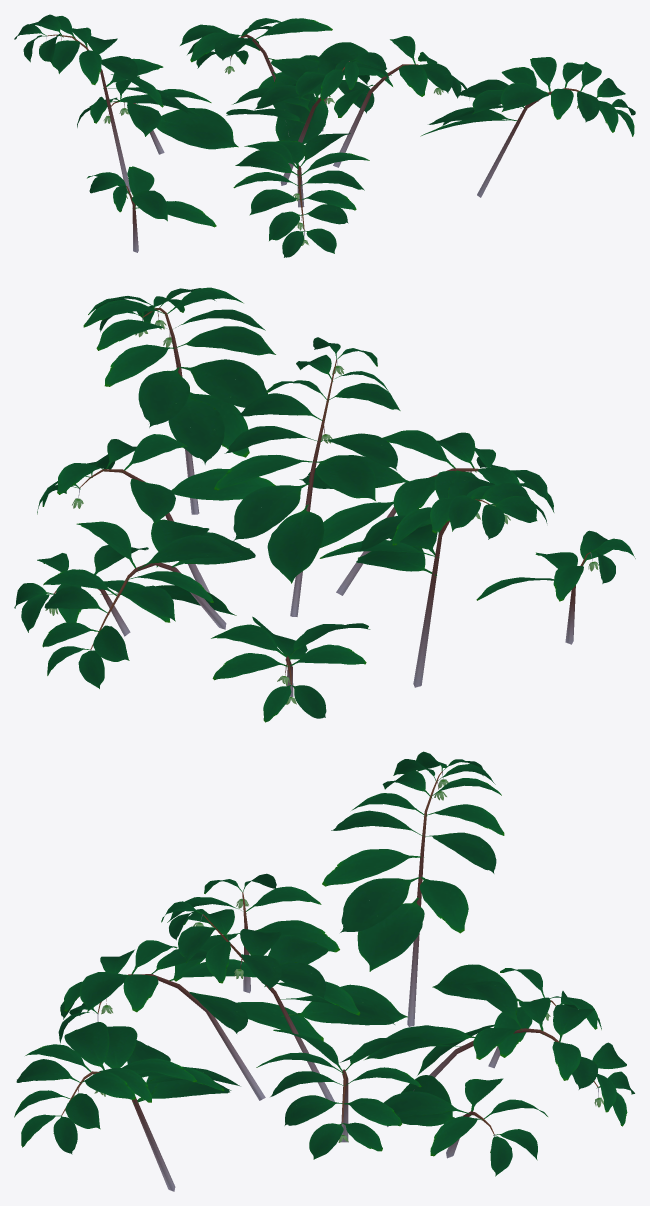
3 renders of one model, top to bottom at view 1: azimuth 30°, elevation 25°; view 2: azimuth 150°, elevation 25°; view 3: azimuth 270°, elevation 25°, orthographic. The views are drawn at different scales.
Parts seen in each view (by area): view 1: SM_BM_Lily_01_LOD0; view 2: SM_BM_Lily_01_LOD0; view 3: SM_BM_Lily_01_LOD0.
Part boxes in pixels (x1=…): SM_BM_Lily_01_LOD0: x1=14, y1=14, x2=635, y2=257; SM_BM_Lily_01_LOD0: x1=14, y1=287, x2=635, y2=722; SM_BM_Lily_01_LOD0: x1=14, y1=751, x2=634, y2=1191.
Bounding box in the file's own units: 1.53 × 0.5423 × 1.36.
1 material, 1 textured.
